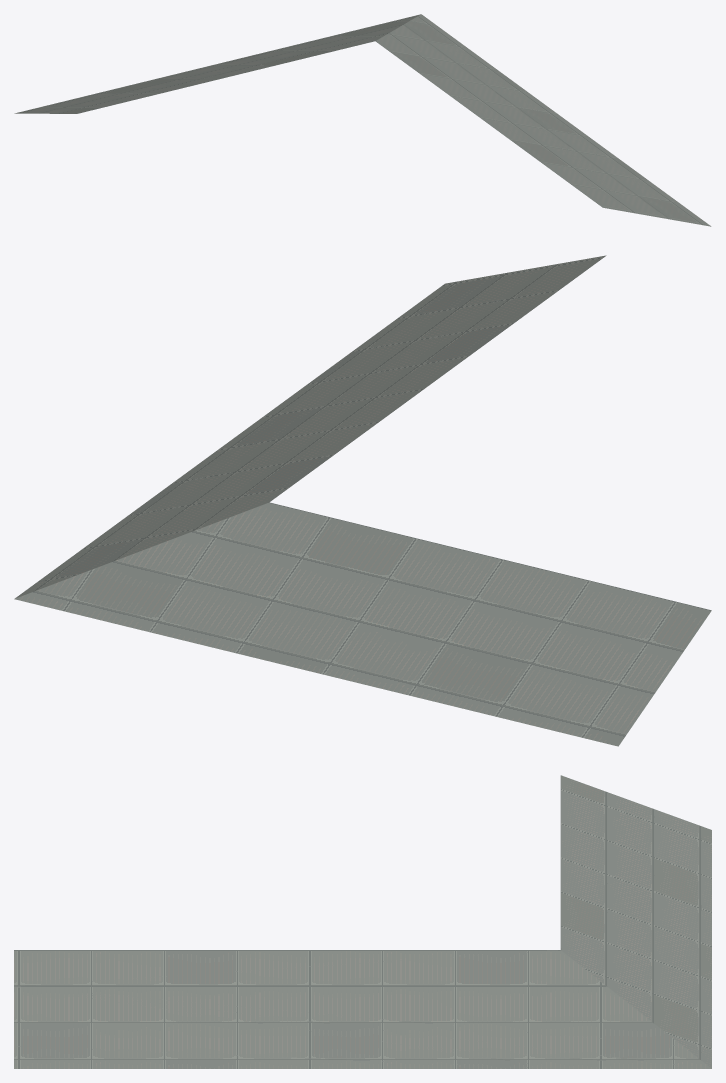
Rendered from kd_stage_135b75_4_93_bounded_portal_piece_4.glb.
3 views of the same model, one above another, from view 1: azimuth 30°, elevation 25°; view 2: azimuth 150°, elevation 25°; view 3: azimuth 270°, elevation 25° (orthographic). The views are drawn at different scales.
Visible parts, largest first — view 1: kd_stage_135b75_4_93_bounded_portal_piece_4; view 2: kd_stage_135b75_4_93_bounded_portal_piece_4; view 3: kd_stage_135b75_4_93_bounded_portal_piece_4.
Part boxes in pixels (<box>): kd_stage_135b75_4_93_bounded_portal_piece_4: <box>14,14,711,226</box>; kd_stage_135b75_4_93_bounded_portal_piece_4: <box>14,255,711,746</box>; kd_stage_135b75_4_93_bounded_portal_piece_4: <box>14,775,711,1068</box>.
Bounding box in the file's own units: 3.79 × 0.4059 × 4.68.
Materials: 1 (1 with a texture image).
